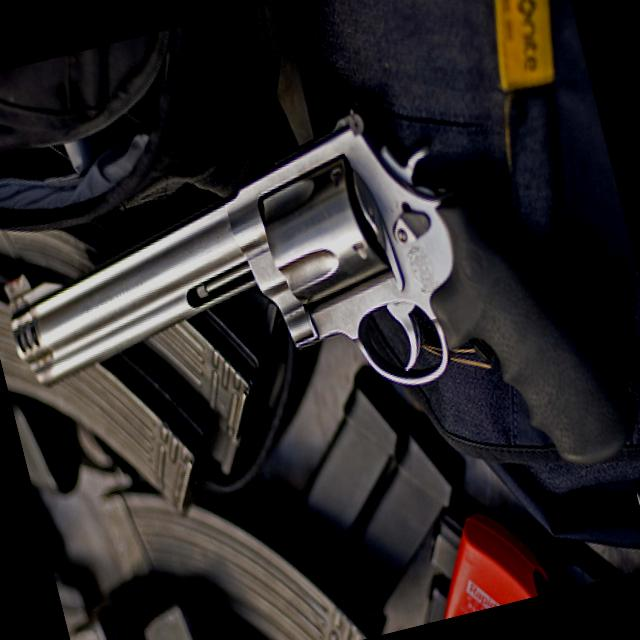handgun: (0, 58, 639, 599)
